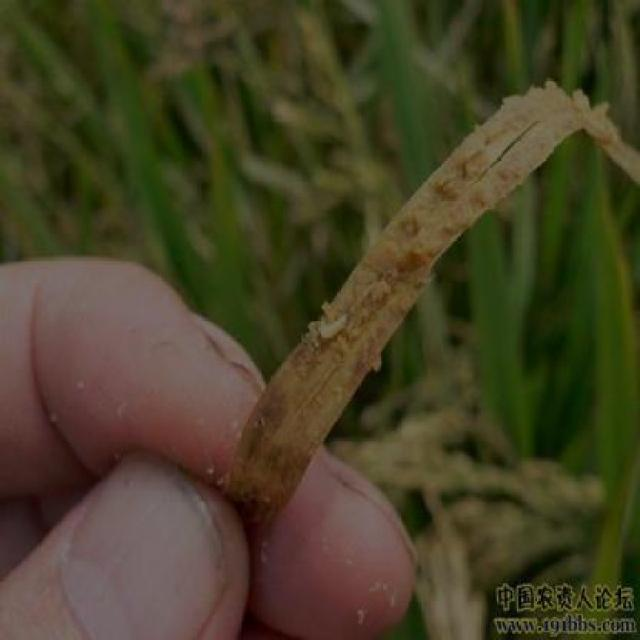whorl-maggot: (304, 308, 359, 346)
